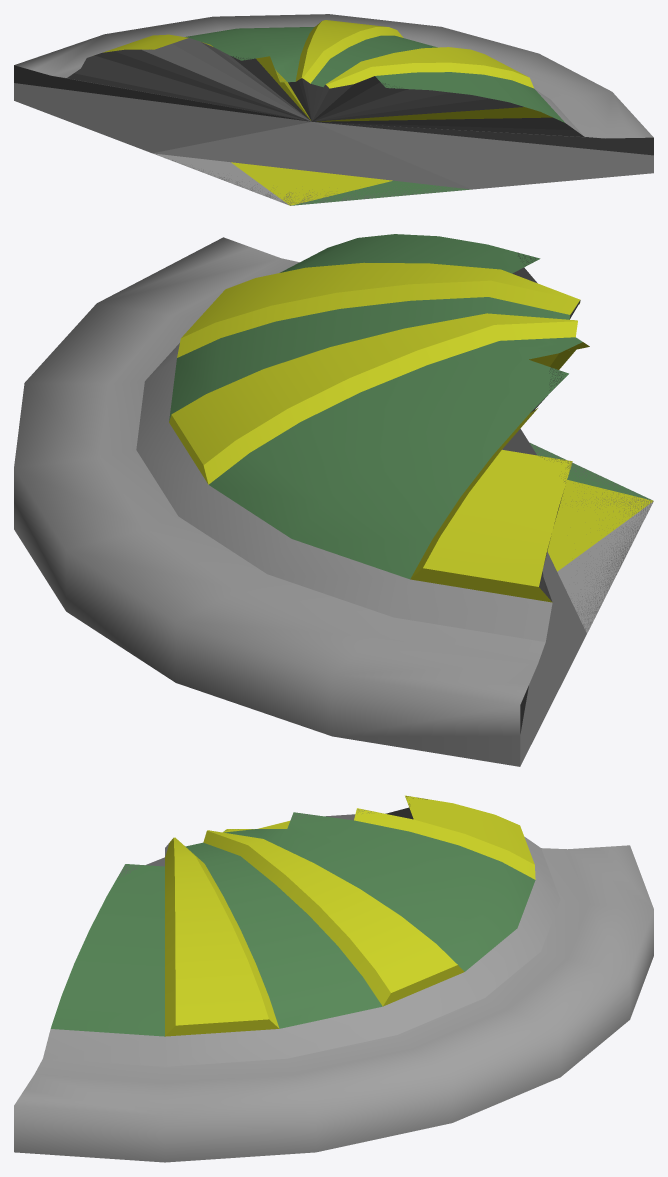
The model's file is plate1.FBX.
The picture shows the model from 3 angles, top to bottom: view 1: azimuth 30°, elevation 25°; view 2: azimuth 150°, elevation 25°; view 3: azimuth 270°, elevation 25°; orthographic projection. The views are drawn at different scales.
Parts seen in each view (by area): view 1: pasted__pCylinder2; view 2: pasted__pCylinder2; view 3: pasted__pCylinder2.
Boxes of the visible parts, left/top/right/bottom form: pasted__pCylinder2: left=14, top=14, right=653, bottom=205; pasted__pCylinder2: left=14, top=234, right=653, bottom=766; pasted__pCylinder2: left=14, top=795, right=653, bottom=1162.
Bounding box in the file's own units: 1.78 × 0.4662 × 1.78.
